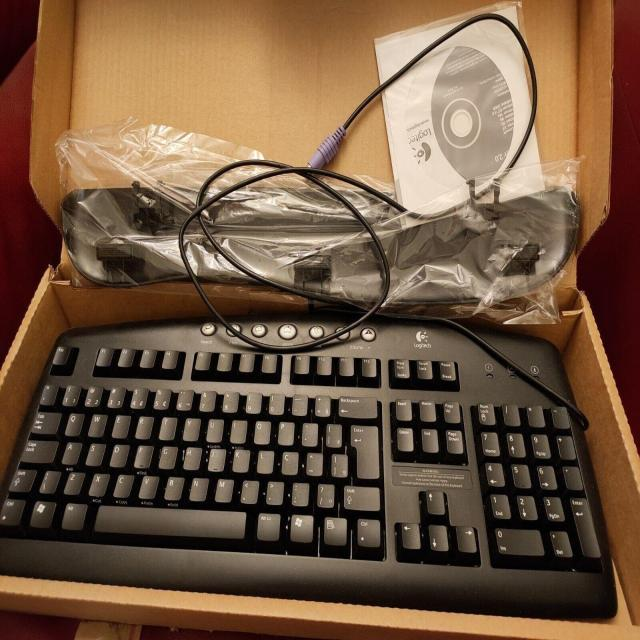keyboard: (0, 334, 621, 610)
